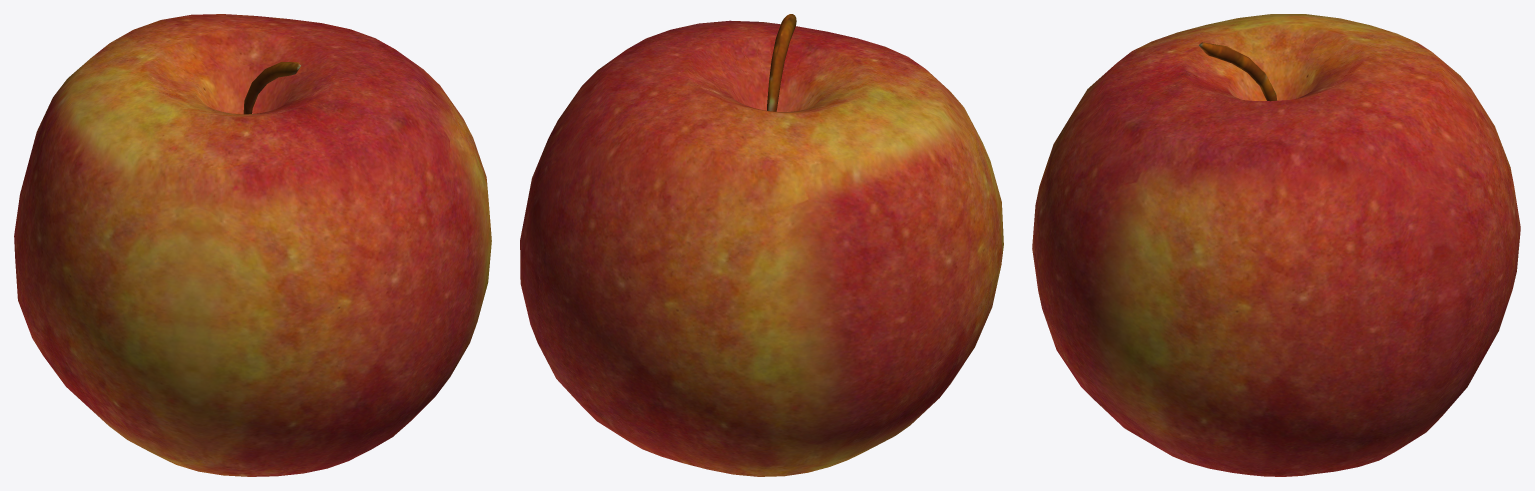
3 renders of one model, left to right at view 1: azimuth 30°, elevation 25°; view 2: azimuth 150°, elevation 25°; view 3: azimuth 270°, elevation 25°, orthographic.
Parts seen in each view (by area): view 1: Sphere07, Cylinder05; view 2: Sphere07, Cylinder05; view 3: Sphere07, Cylinder05.
Boxes of the visible parts, left/top/right/bottom form: Sphere07: left=14, top=14, right=491, bottom=476; Cylinder05: left=243, top=62, right=301, bottom=114; Sphere07: left=520, top=20, right=1003, bottom=476; Cylinder05: left=767, top=14, right=796, bottom=111; Sphere07: left=1032, top=14, right=1520, bottom=476; Cylinder05: left=1199, top=42, right=1277, bottom=101.
Size of the model in its own units: 0.1744 by 0.1622 by 0.1777.
Materials: 1 (1 with a texture image).
